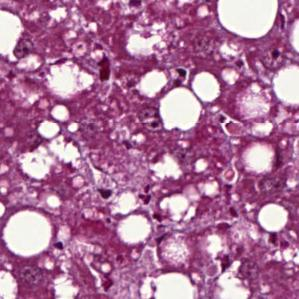ballooning: (41, 57, 97, 104)
